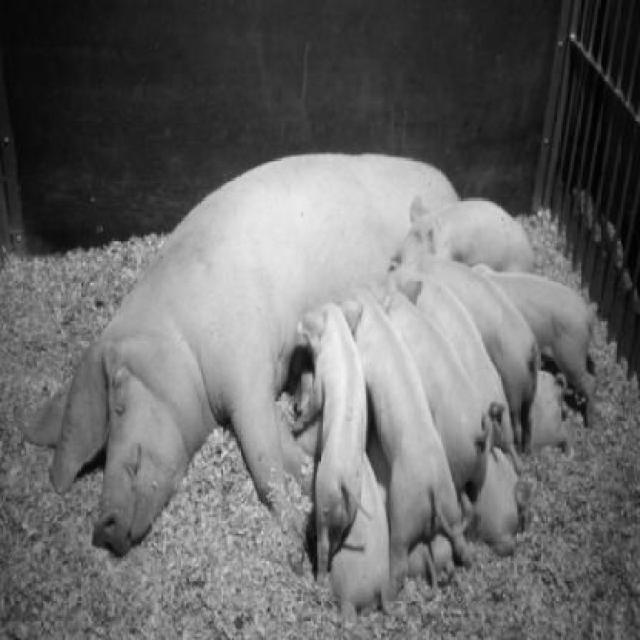Boar: (10, 154, 608, 626)
